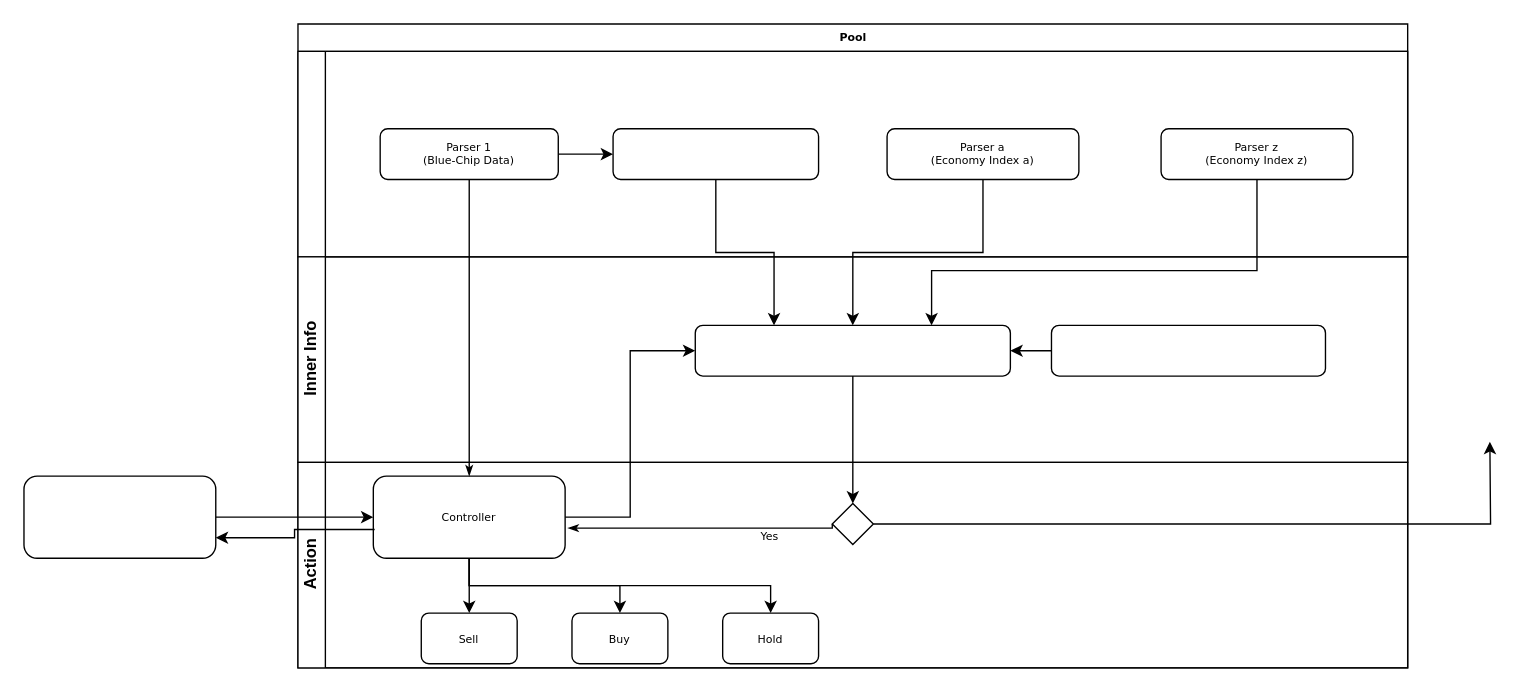
This 1526x692 diagram has some shape labels left out. The shapes that lost their labels are listed below. From the top down, each one's box as (x1, y1, x2, y2) in pixels, then its label:
(612, 127, 819, 179): Parser 2 (P1 Involve Data)
(297, 50, 1408, 257): Outer Info
(694, 324, 1010, 376): Judge
(1050, 324, 1325, 376): Inner Info Collector
(23, 475, 216, 558): Viewer
